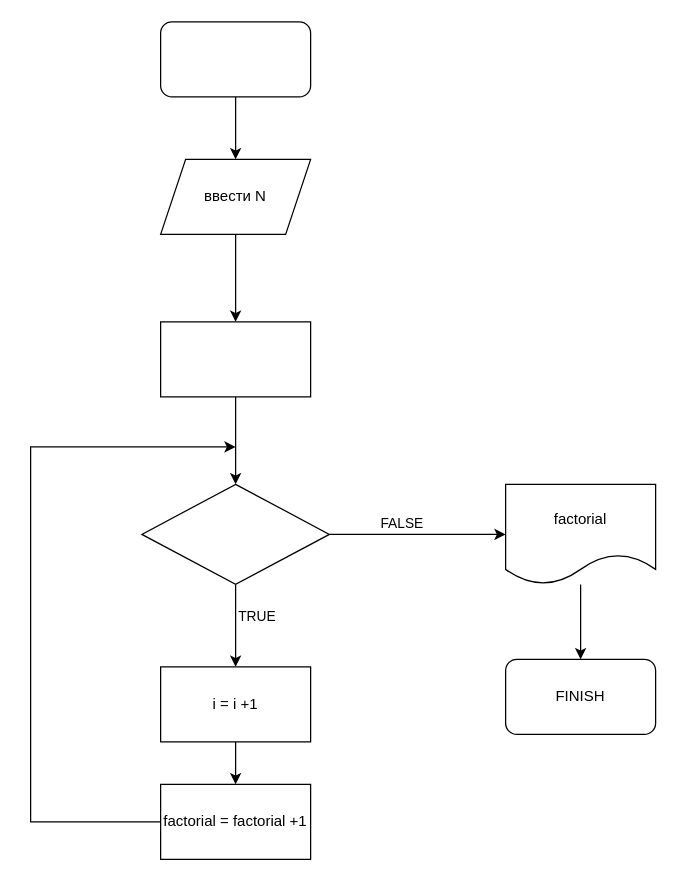
This 678x881 diagram has some shape labels left out. Each missing label, with the centre of its shape:
factorial =1 i = 1: (x=235, y=359)
i<N: (x=235, y=533)
START: (x=235, y=59)
